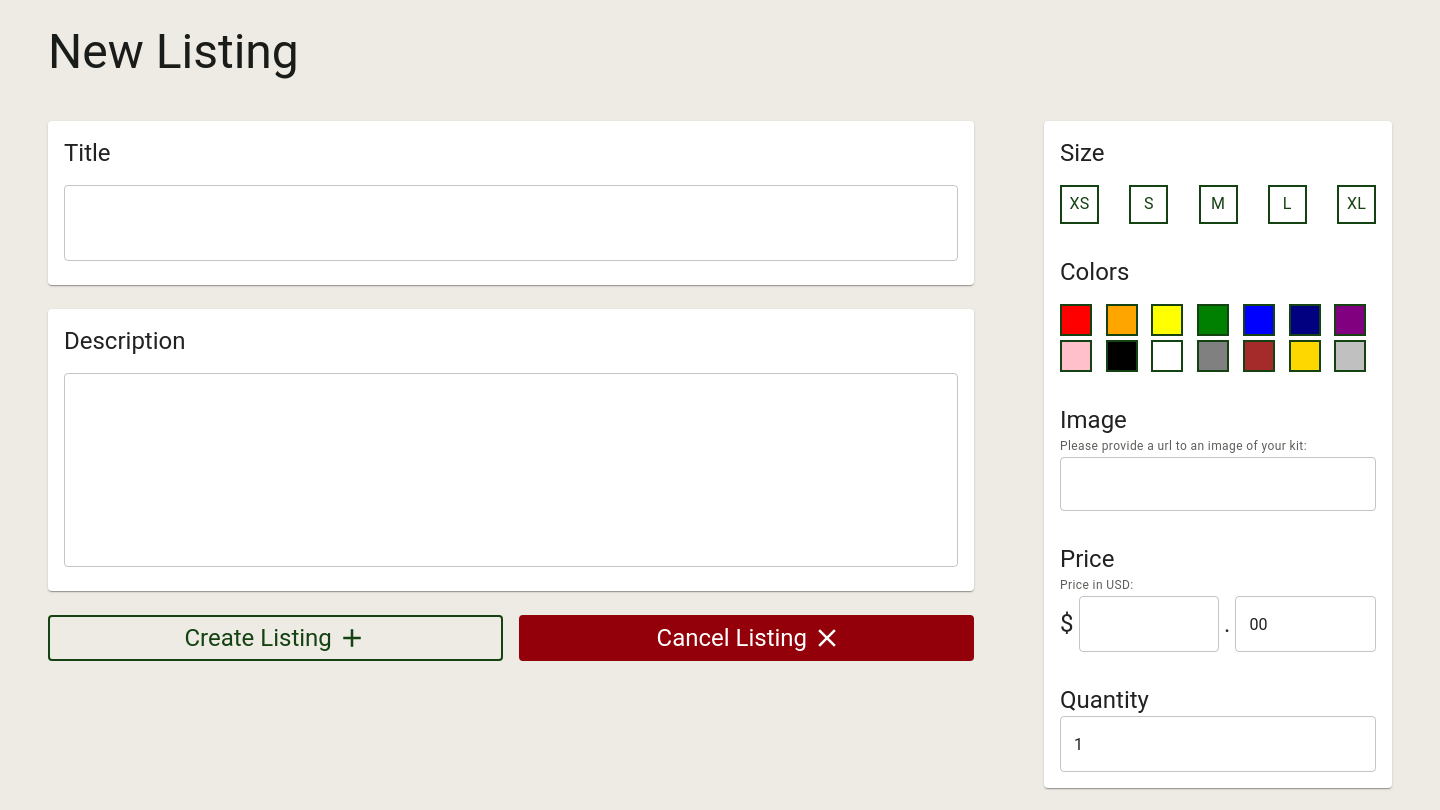
Test: ListingFormPage › wont type non numbers into dollars field
Type "12f.-3" into the field named "dollars" at [1149, 624], box [1078, 596, 1219, 652]
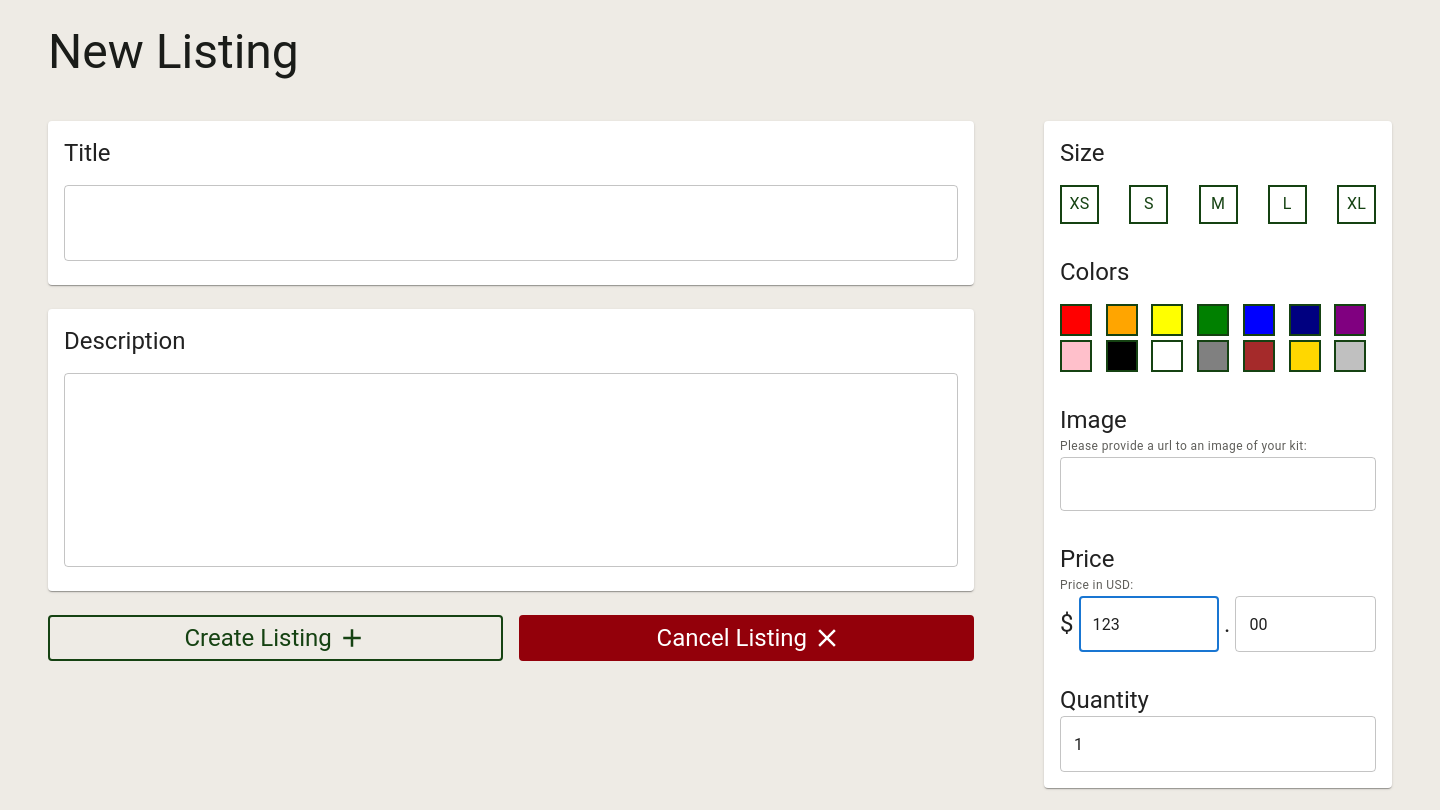
Expected: the field named "dollars" holds "123", [1078, 596, 1219, 652]
